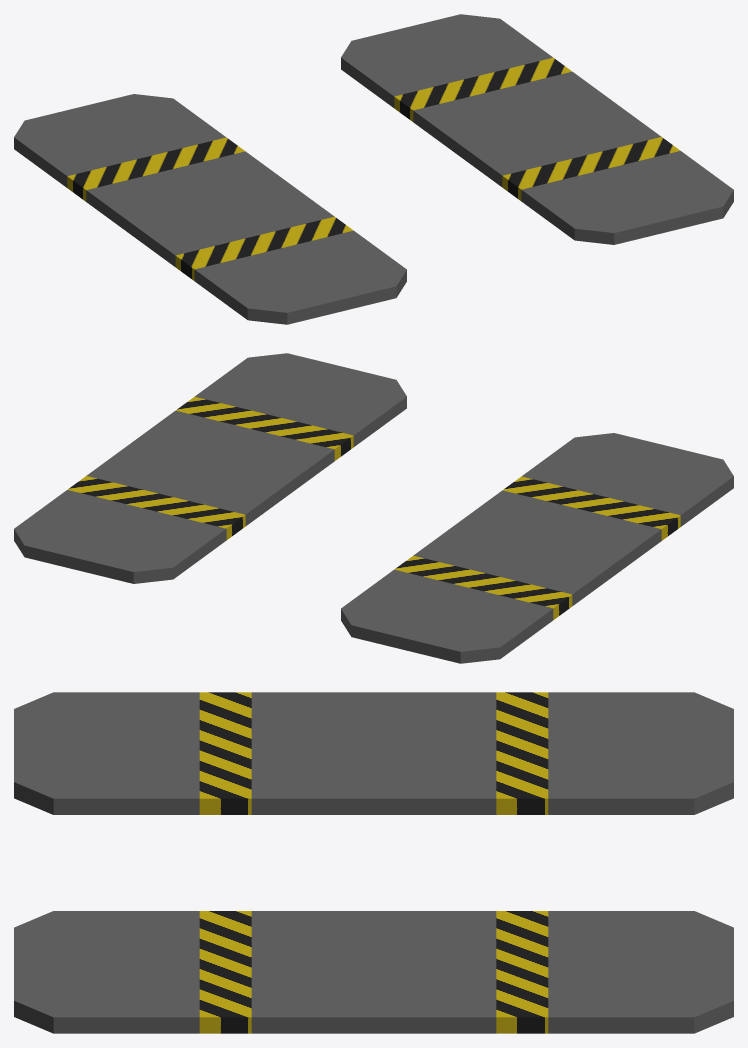
The model's file is CK_WJ_jianyishengjiangji_01.FBX.
3 renders of one model, top to bottom at view 1: azimuth 30°, elevation 25°; view 2: azimuth 150°, elevation 25°; view 3: azimuth 270°, elevation 25°, orthographic. The views are drawn at different scales.
Parts seen in each view (by area): view 1: CK_WJ_jianyishengjiangji_01; view 2: CK_WJ_jianyishengjiangji_01; view 3: CK_WJ_jianyishengjiangji_01.
Part boxes in pixels (x1,y1,x2,y2): CK_WJ_jianyishengjiangji_01: (14, 14, 733, 324); CK_WJ_jianyishengjiangji_01: (14, 353, 733, 663); CK_WJ_jianyishengjiangji_01: (14, 692, 733, 1033).
Size of the model in its own units: 214 by 5 by 200.
